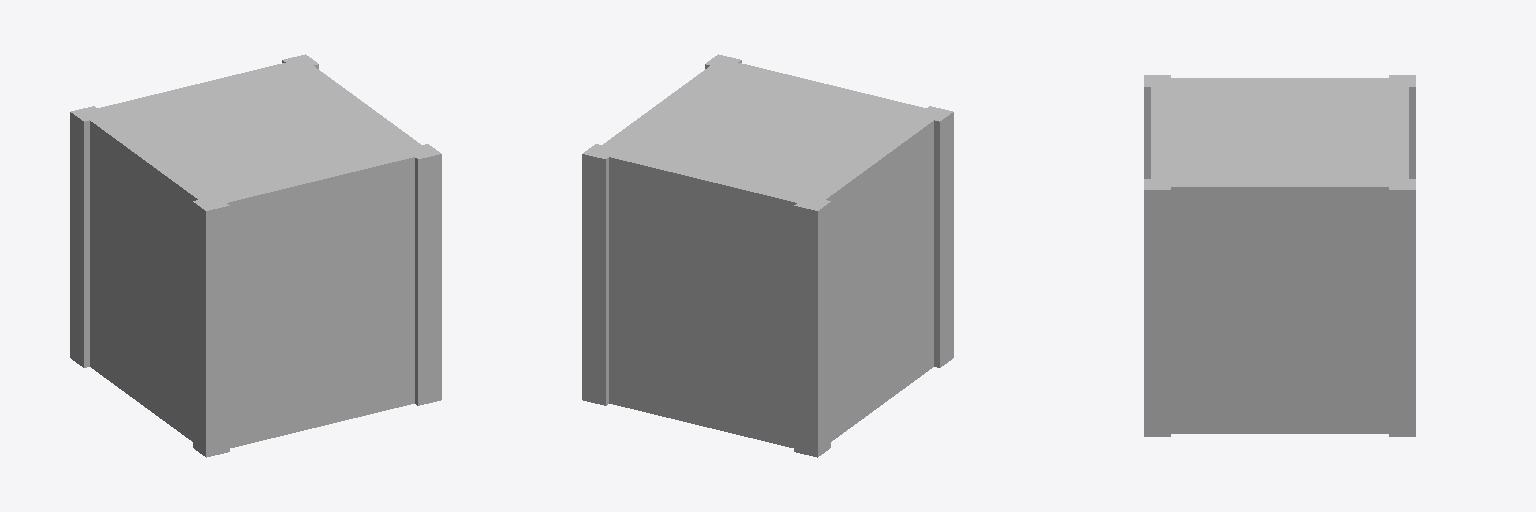
The model's file is wall-wood-block.obj.
3 renders of one model, left to right at view 1: azimuth 30°, elevation 25°; view 2: azimuth 150°, elevation 25°; view 3: azimuth 270°, elevation 25°, orthographic.
Parts seen in each view (by area): view 1: wall-wood-block; view 2: wall-wood-block; view 3: wall-wood-block.
Boxes of the visible parts, <box> form: wall-wood-block: <box>70,54,441,457</box>; wall-wood-block: <box>582,54,953,457</box>; wall-wood-block: <box>1144,75,1415,436</box>.
Bounding box in the file's own units: 1 × 1 × 1.